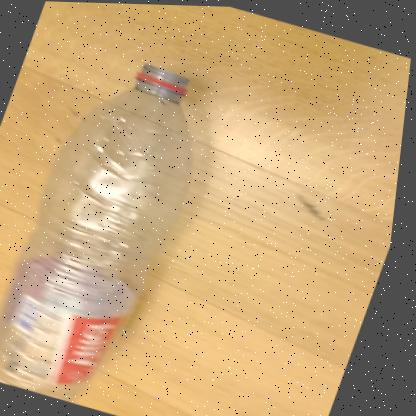Plastic: (0, 62, 194, 400)
